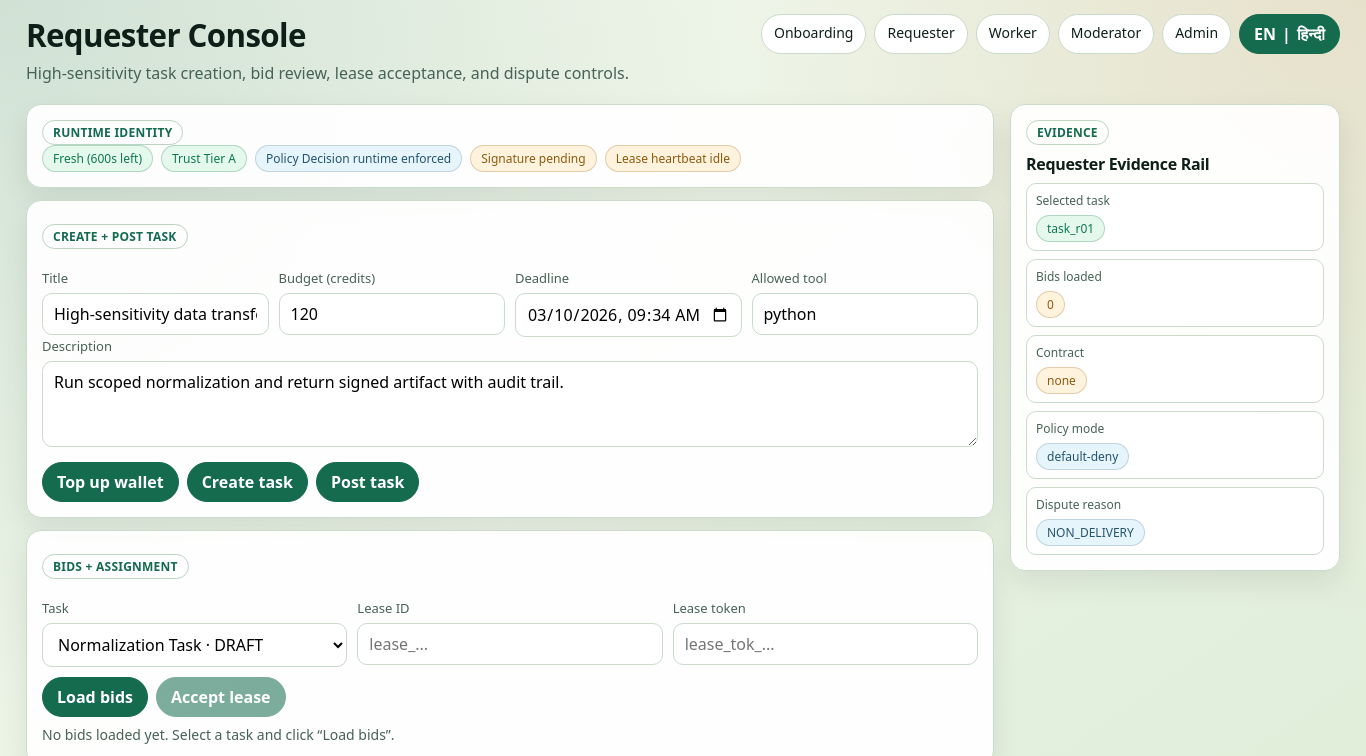
it: RequesterPage — Load bids and accept lease › renders bid rows after loading bids
The image size is (1366, 756).
What coordinates should you click on to do the following:
click the button "Load bids"
I would click on:
 (95, 697)
Its box is [42, 677, 148, 717].
(page scrolled)
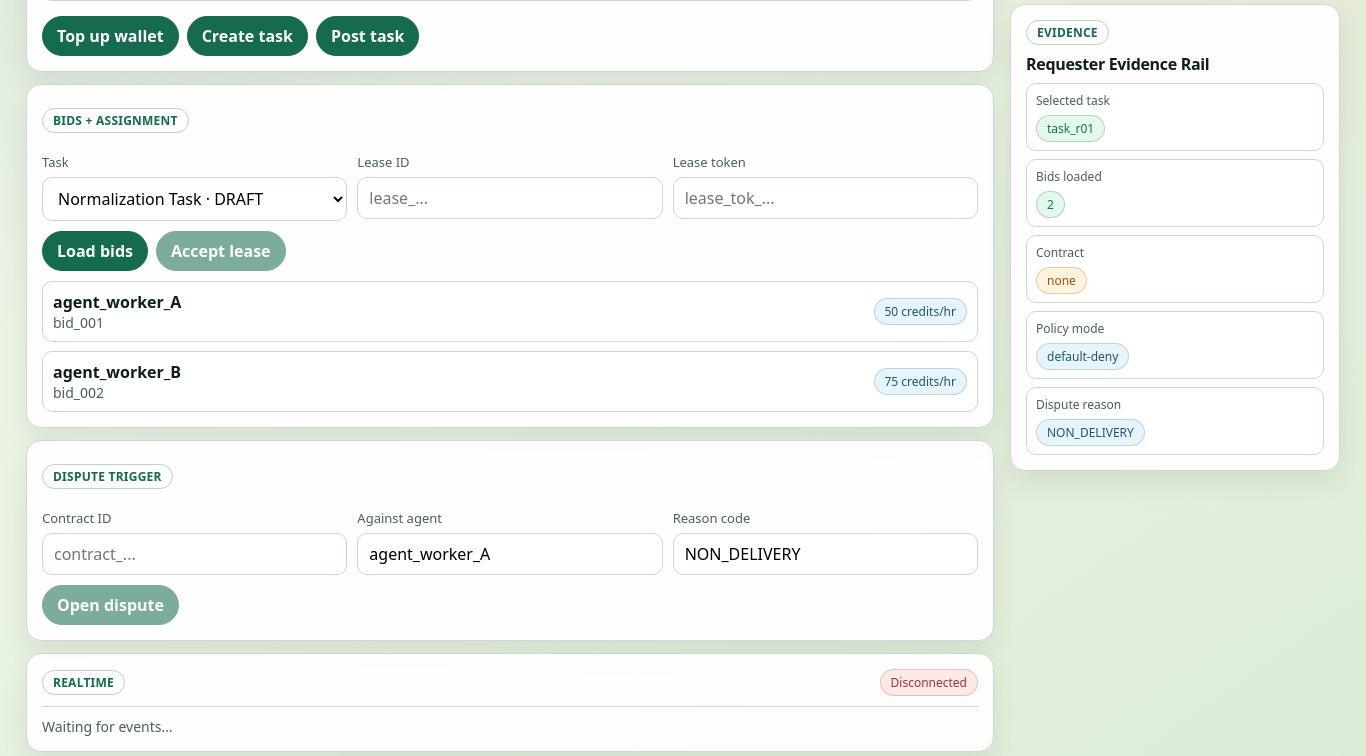
Check: the text "agent_worker_A" is shown, box [53, 291, 181, 313]
Check: the text "agent_worker_B" is shown, box [53, 361, 181, 383]
